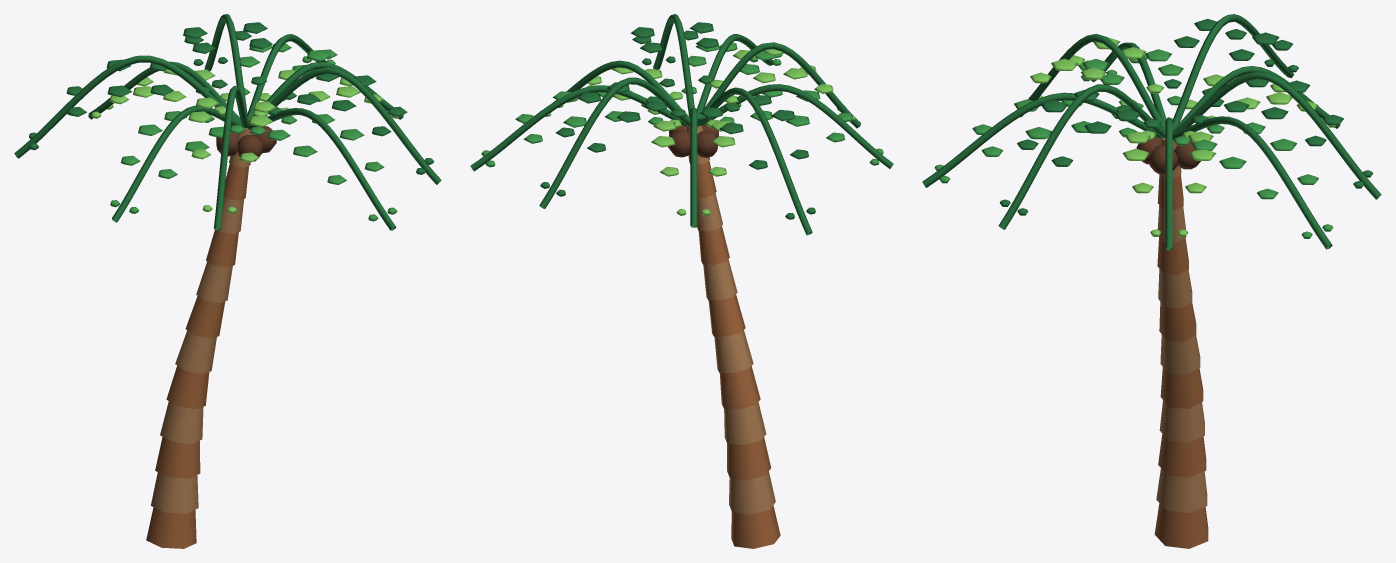
The model's file is palm-tall.glb.
The picture shows the model from 3 angles, left to right: view 1: azimuth 30°, elevation 25°; view 2: azimuth 150°, elevation 25°; view 3: azimuth 270°, elevation 25°; orthographic projection. The views are drawn at different scales.
Visible parts, largest first — view 1: Mesh_leafDark, Mesh_wood, Mesh_palmBark, Mesh_leaf, Mesh_leafLight, Mesh_darkWood; view 2: Mesh_leafDark, Mesh_wood, Mesh_palmBark, Mesh_leafLight, Mesh_leaf, Mesh_darkWood; view 3: Mesh_leafDark, Mesh_wood, Mesh_palmBark, Mesh_leaf, Mesh_leafLight, Mesh_darkWood.
Part boxes in pixels (left/top/right/bottom): Mesh_leafDark: left=14, top=14, right=441, bottom=230; Mesh_wood: left=146, top=163, right=248, bottom=548; Mesh_palmBark: left=151, top=128, right=253, bottom=513; Mesh_leaf: left=110, top=43, right=397, bottom=221; Mesh_leafLight: left=91, top=69, right=400, bottom=213; Mesh_darkWood: left=216, top=126, right=276, bottom=161; Mesh_leafDark: left=470, top=14, right=893, bottom=235; Mesh_wood: left=697, top=161, right=780, bottom=548; Mesh_palmBark: left=686, top=125, right=775, bottom=514; Mesh_leafLight: left=545, top=49, right=855, bottom=215; Mesh_leaf: left=481, top=42, right=883, bottom=167; Mesh_darkWood: left=668, top=124, right=718, bottom=157; Mesh_leafDark: left=922, top=14, right=1381, bottom=250; Mesh_wood: left=1154, top=174, right=1208, bottom=548; Mesh_palmBark: left=1156, top=138, right=1207, bottom=513; Mesh_leaf: left=934, top=49, right=1333, bottom=238; Mesh_leafLight: left=1016, top=37, right=1335, bottom=236; Mesh_darkWood: left=1136, top=136, right=1200, bottom=174.
Size of the model in its own units: 3.69 by 5.02 by 4.06.
